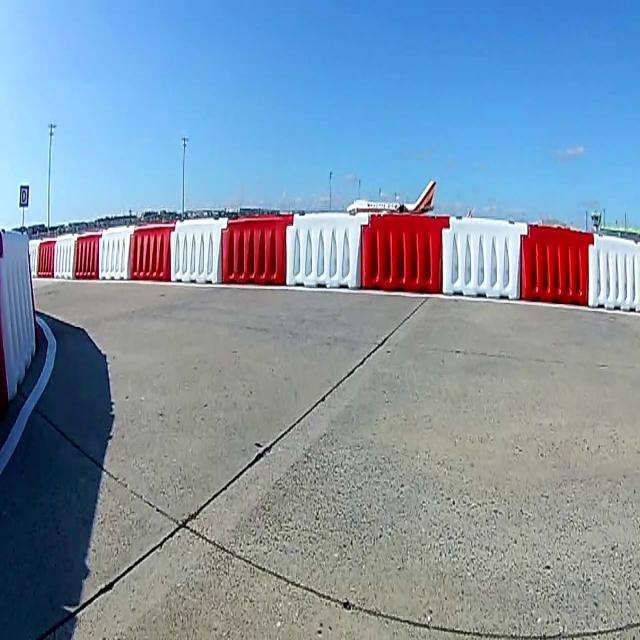durak: (20, 186, 28, 207)
